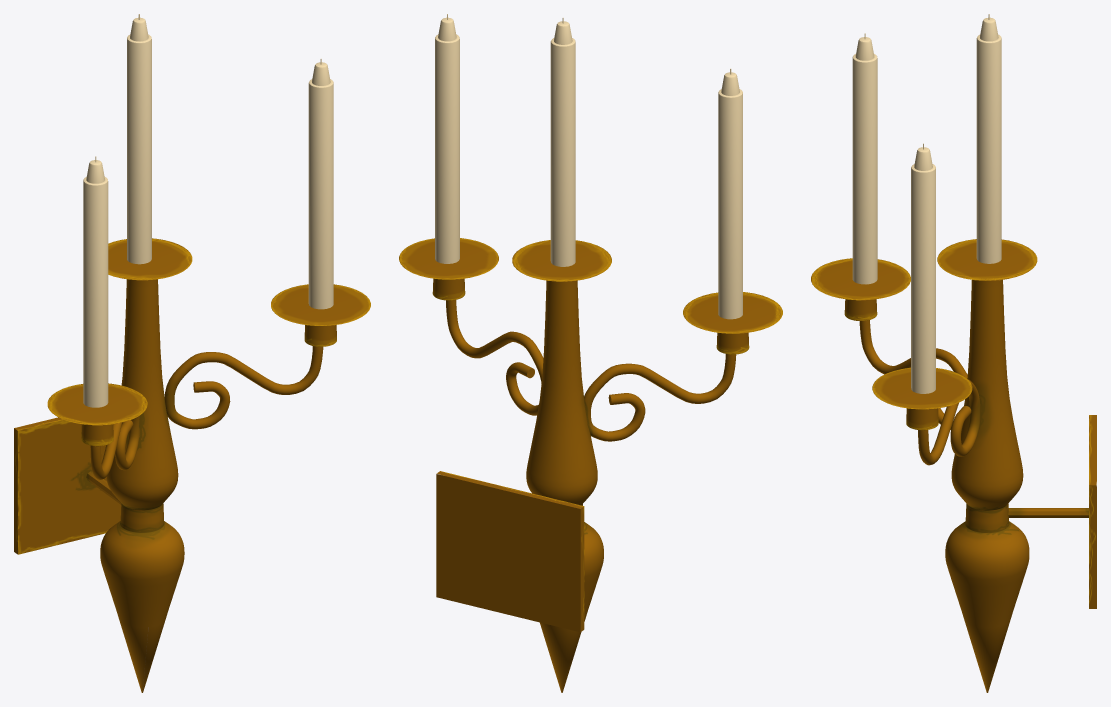
File: Candlestick.fbx
3 renders of one model, left to right at view 1: azimuth 30°, elevation 25°; view 2: azimuth 150°, elevation 25°; view 3: azimuth 270°, elevation 25°, orthographic.
Parts seen in each view (by area): view 1: Candlestick; view 2: Candlestick; view 3: Candlestick.
Part boxes in pixels (box(x1,y1,x2,y2)): Candlestick: box(14, 14, 370, 692); Candlestick: box(399, 14, 782, 692); Candlestick: box(811, 14, 1096, 692).
Size of the model in its own units: 470 by 894 by 342.
